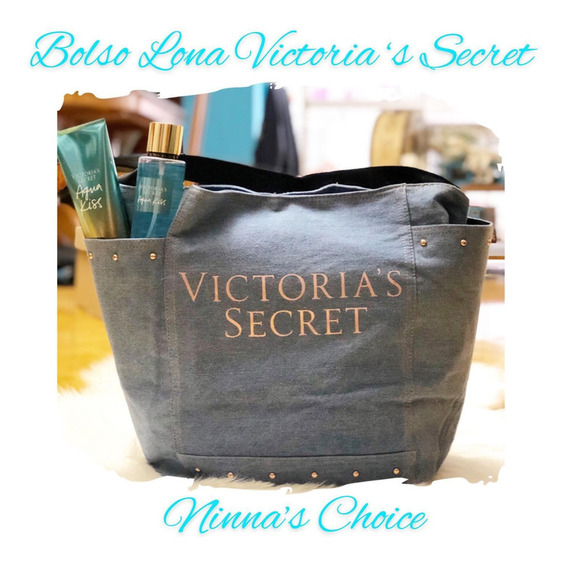cartera: (88, 145, 495, 485)
